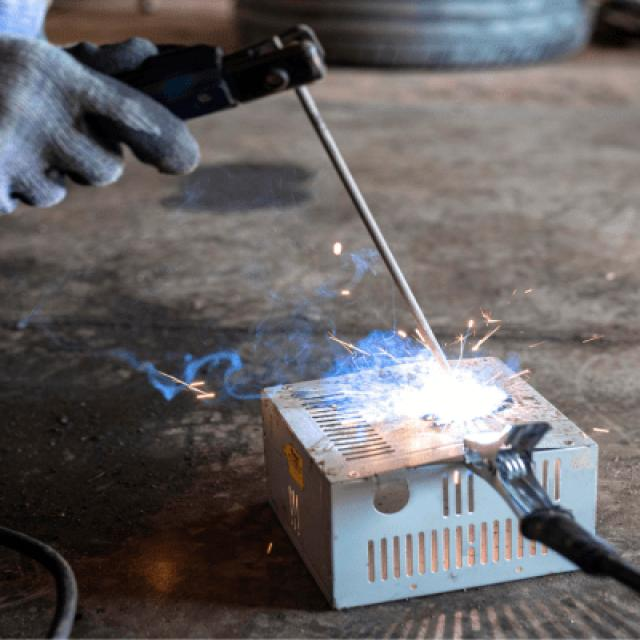welding: (421, 372, 511, 424)
